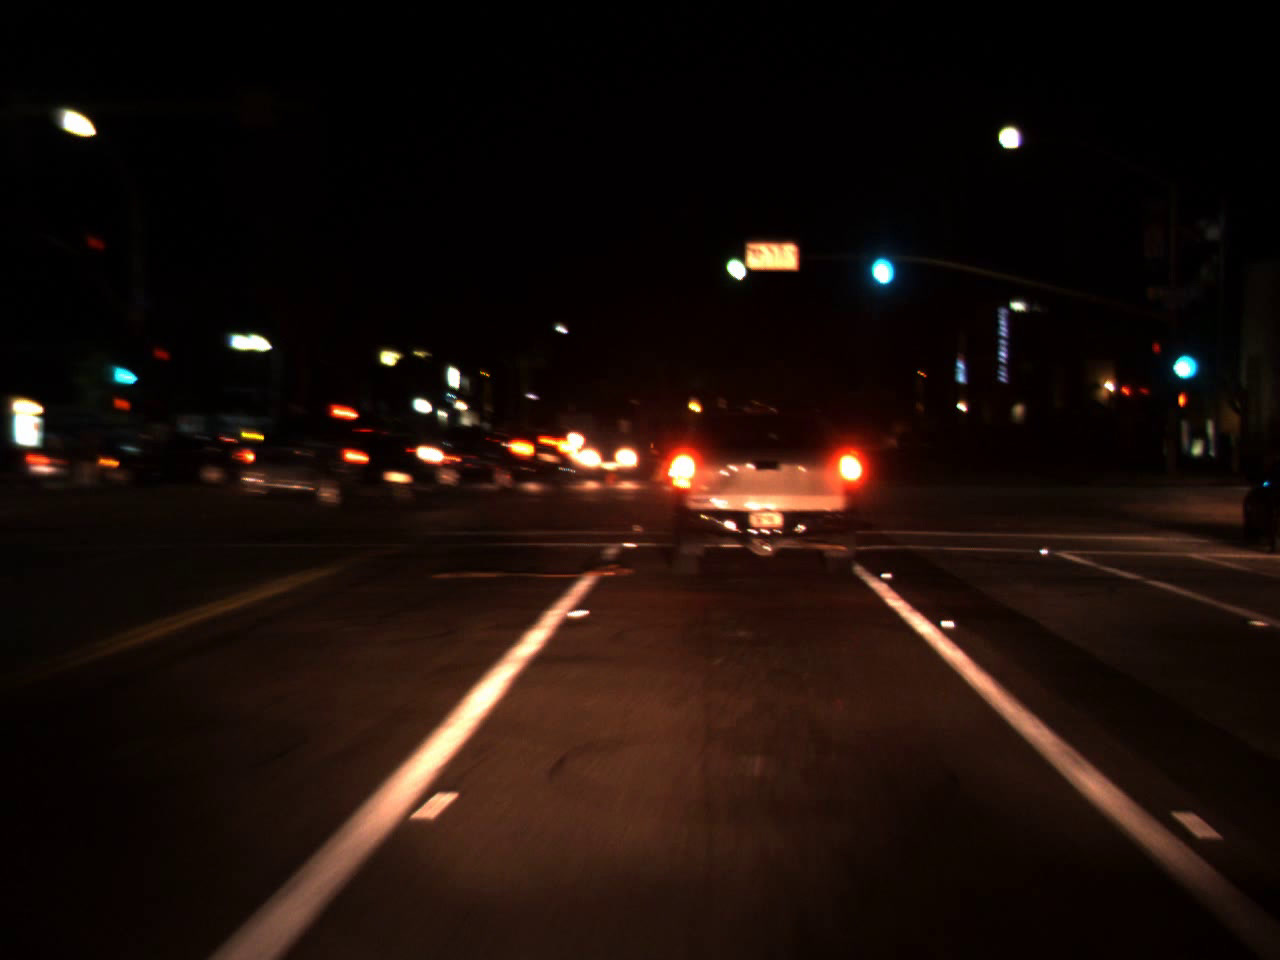go: (861, 225, 898, 294), (714, 238, 751, 286), (1165, 332, 1197, 386), (109, 360, 139, 387)
